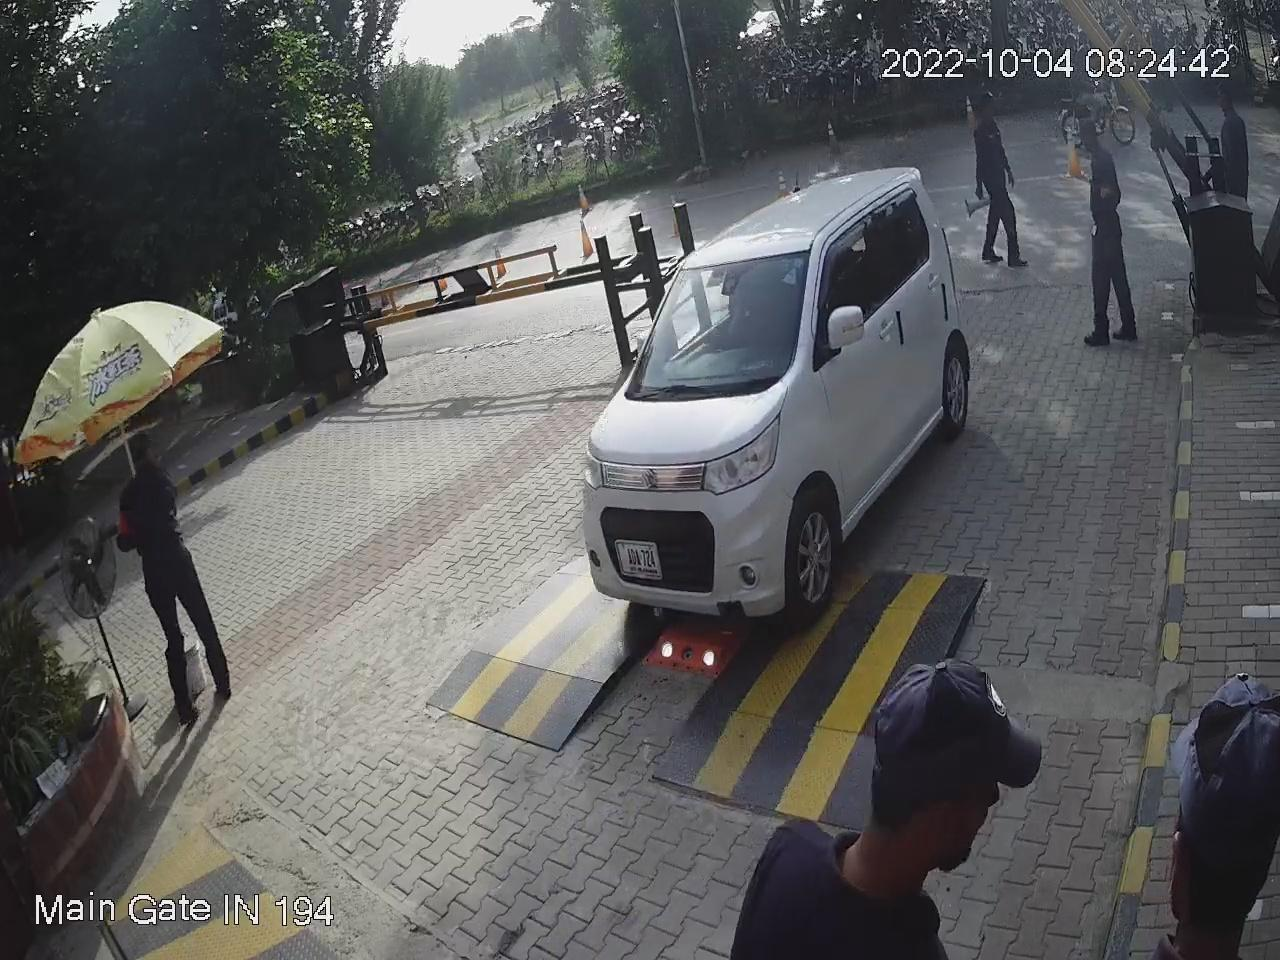windshield: (616, 255, 813, 395)
